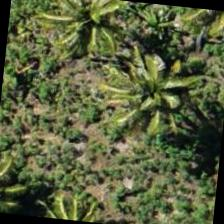Kelapa_Sawit: (103, 44, 202, 144), (59, 0, 156, 63)
